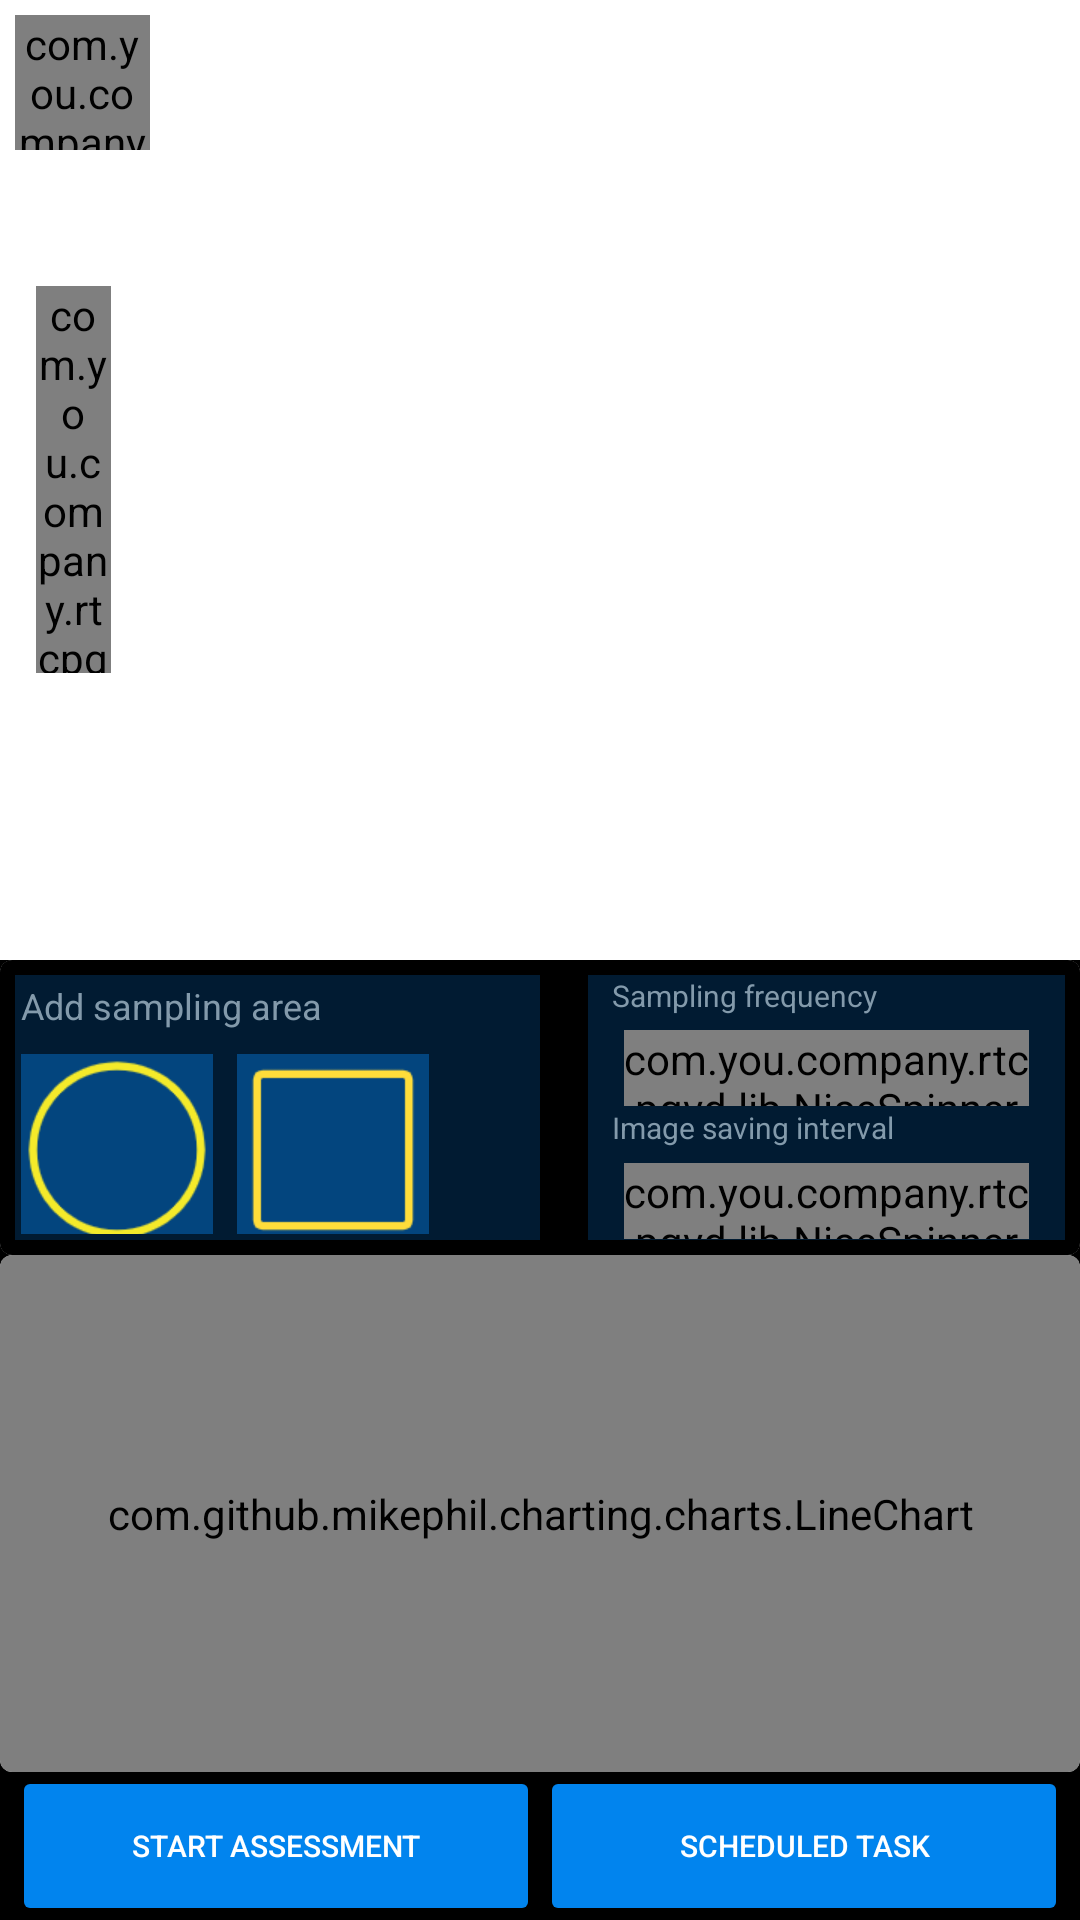

Point at icon controls on the screen. Image size 1080 x 1920, points as (x,y).
circle: (117,1144)
rect: (333,1144)
